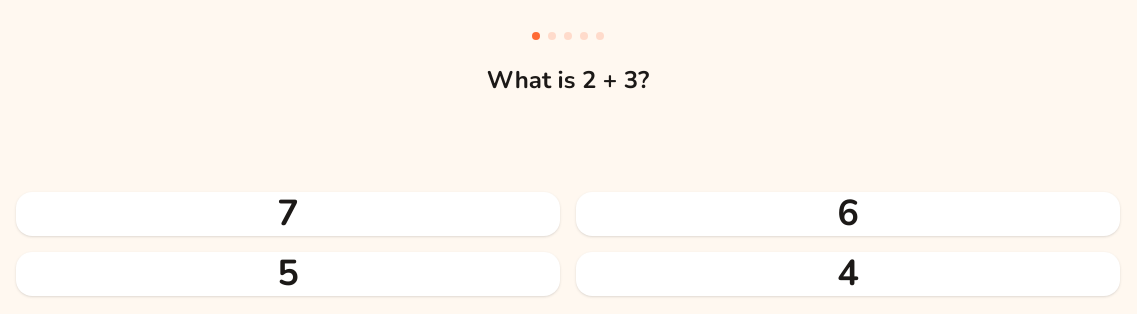
it: FEED-02: Auto-advance after 3 wrong answers + reveal timer › auto-advances to next problem after 3 wrong answers and 1.5s
// Three wrong answers
Click the button "4".
click(848, 274)  # box [576,252,1120,296]
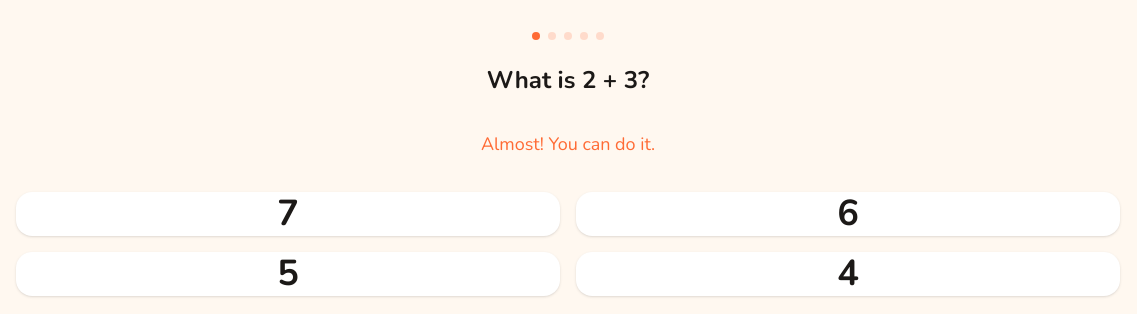
Click the button "4".
click(848, 274)  # box [576,252,1120,296]
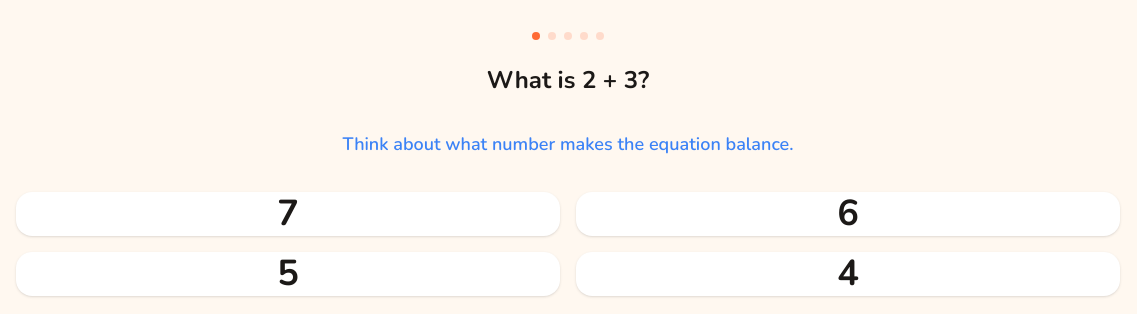
Click the button "4".
click(848, 274)  # box [576,252,1120,296]
Wait 1501 ms
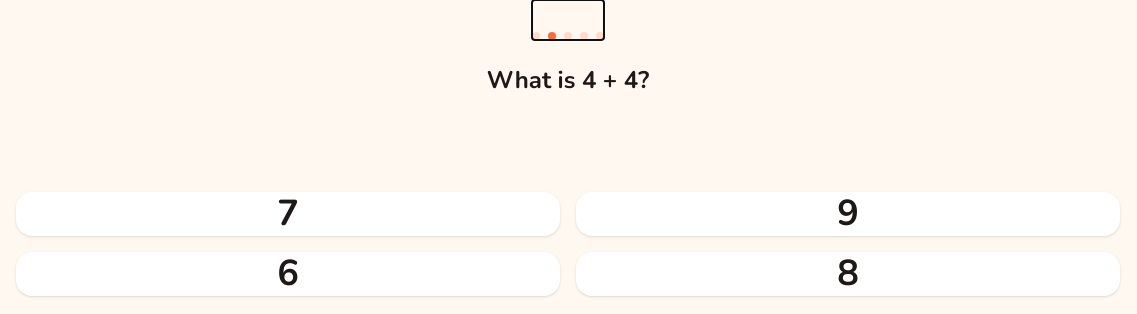
Result: the text "What is 2 + 3?" is gone
